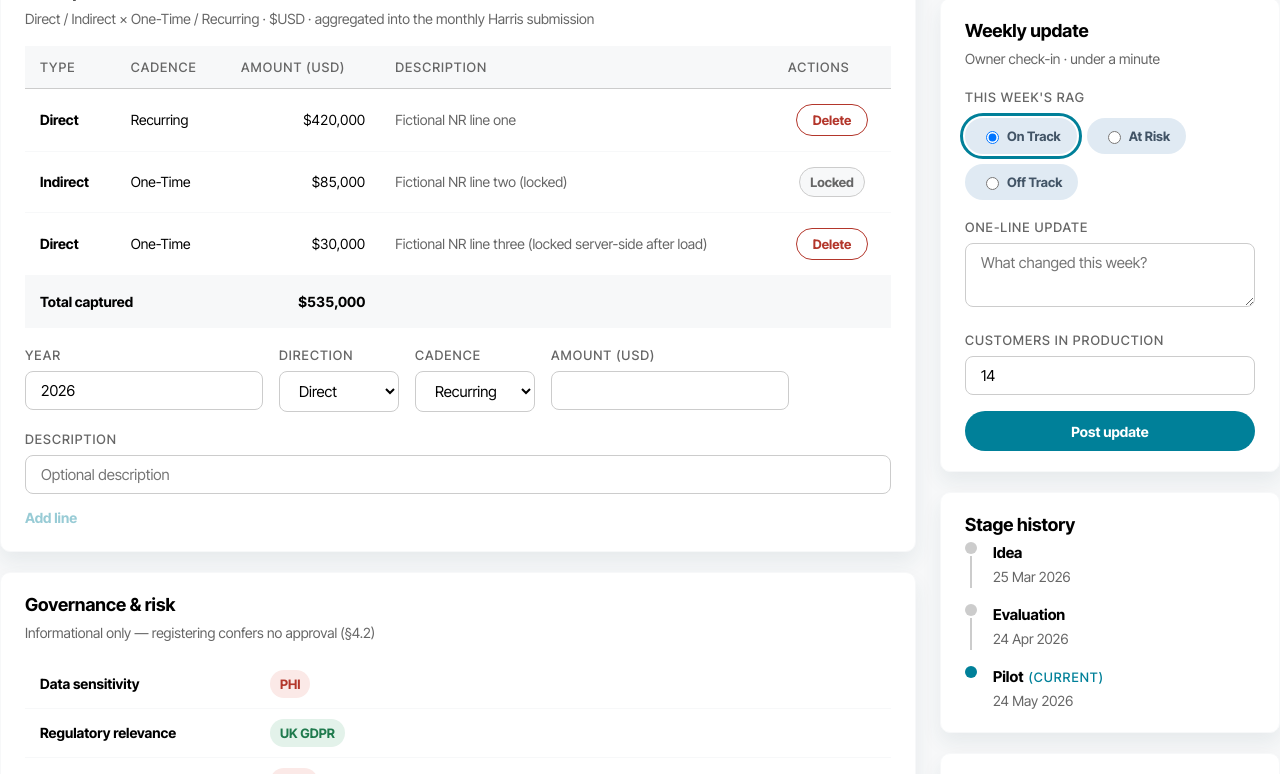
RegisterDetailScreen (HAP-14; register-detail mockup) › adds an NR line on the happy path
The width and height of the screenshot is (1280, 774).
(page scrolled)
Type "5000" into the number field labelled "Amount (USD)" at (670, 390), box [551,371,789,410]
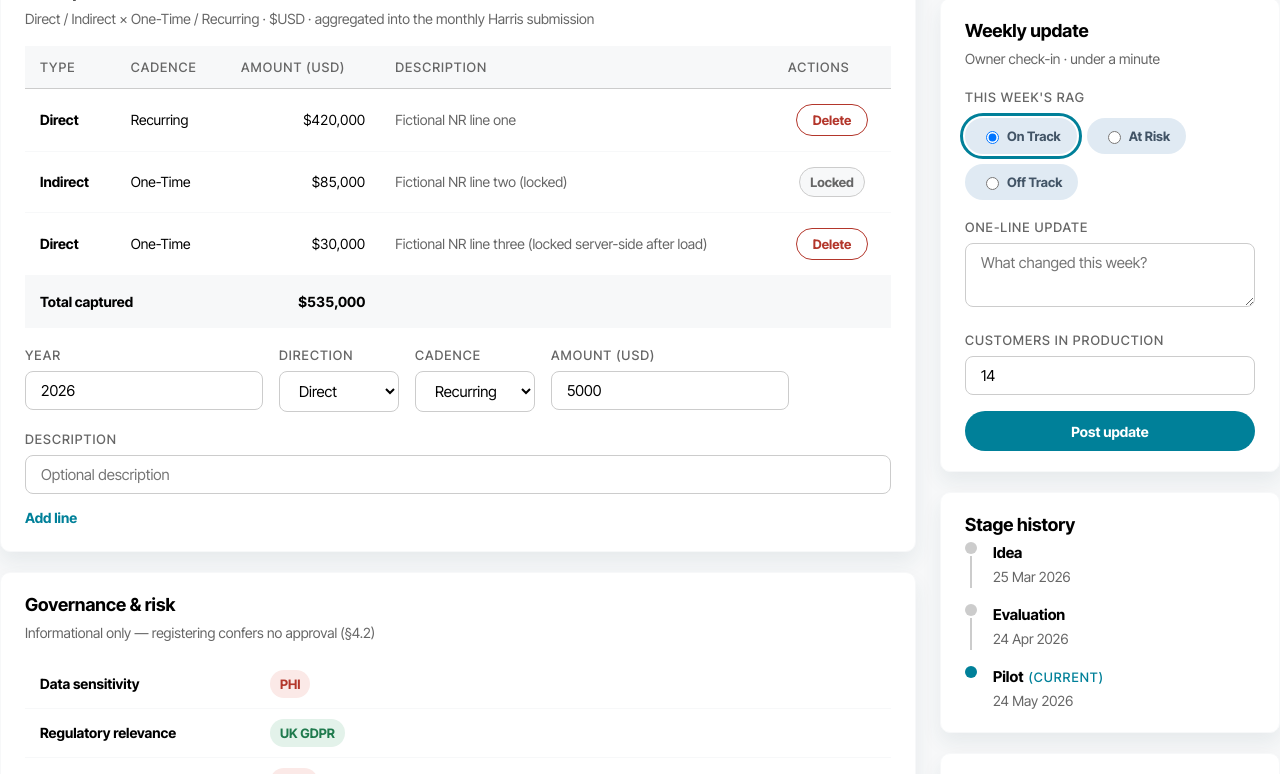
Type "New fictional NR line" into the field labelled "Description" at (458, 474), box [25,455,891,494]
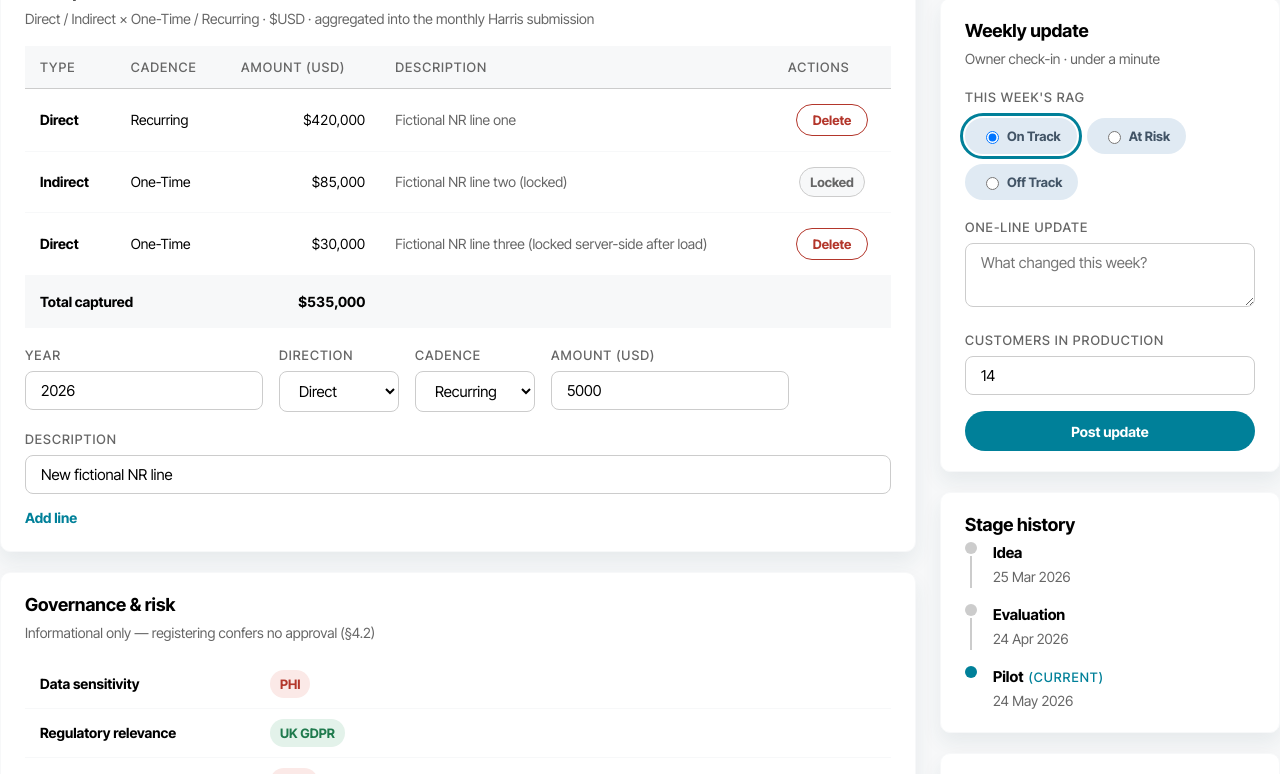
Click the button "Add line" at (51, 518), box [25,504,77,531]
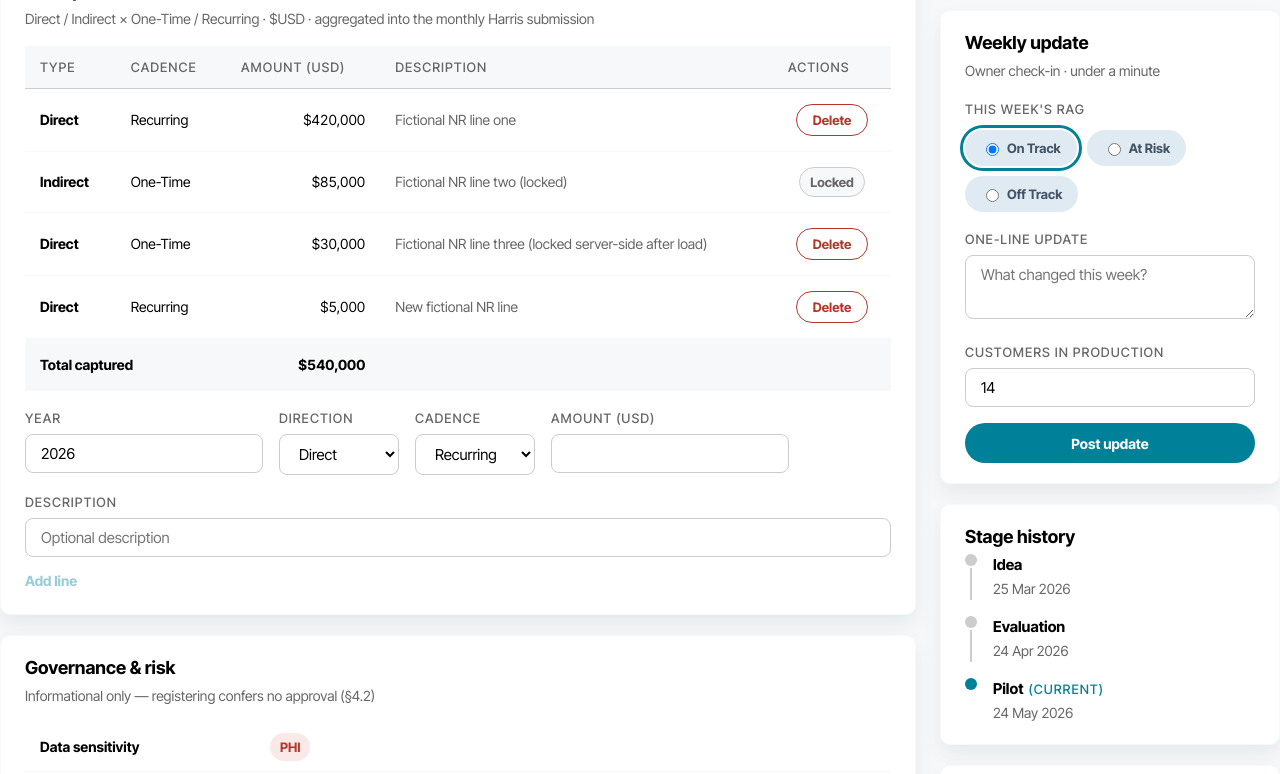
expect the text "New fictional NR line" is shown: met, box [380,276,773,338]
